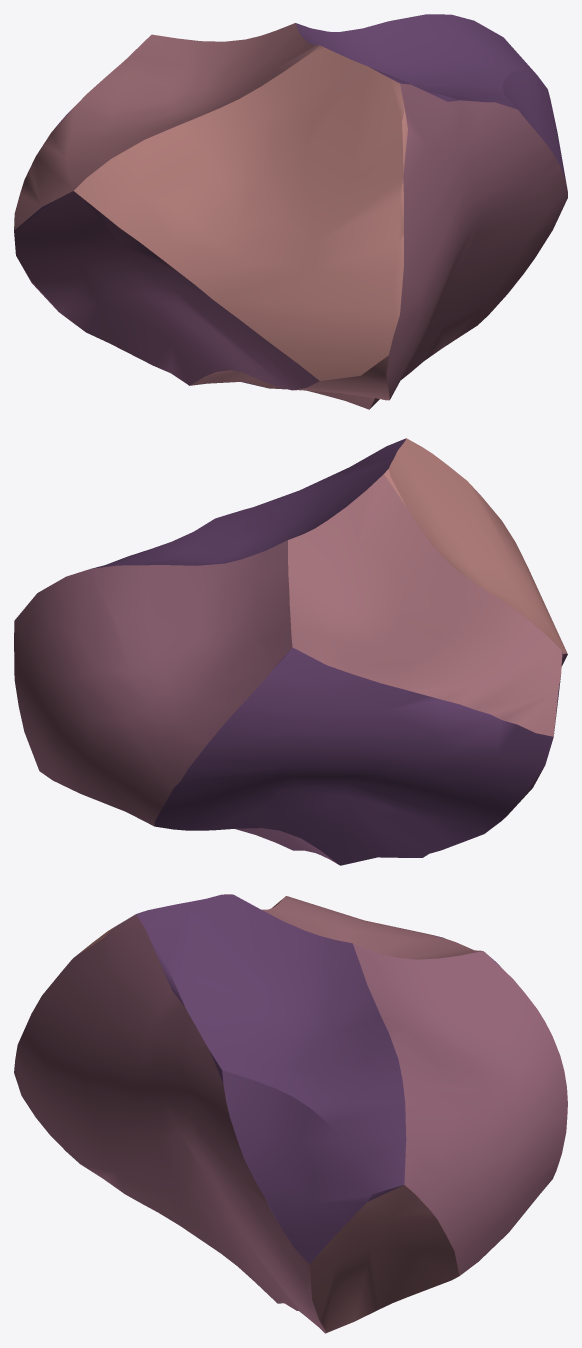
Rendered from rock1.fbx.
3 views of the same model, one above another, from view 1: azimuth 30°, elevation 25°; view 2: azimuth 150°, elevation 25°; view 3: azimuth 270°, elevation 25° (orthographic). The views are drawn at different scales.
Visible parts, largest first — view 1: Cube; view 2: Cube; view 3: Cube.
Part boxes in pixels (x1,y1,x2,y2): Cube: [14, 14, 567, 409]; Cube: [14, 438, 567, 865]; Cube: [14, 894, 567, 1333].
Size of the model in its own units: 280 by 196 by 262.
